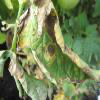Potato leaf early blight: (15, 0, 99, 85)
